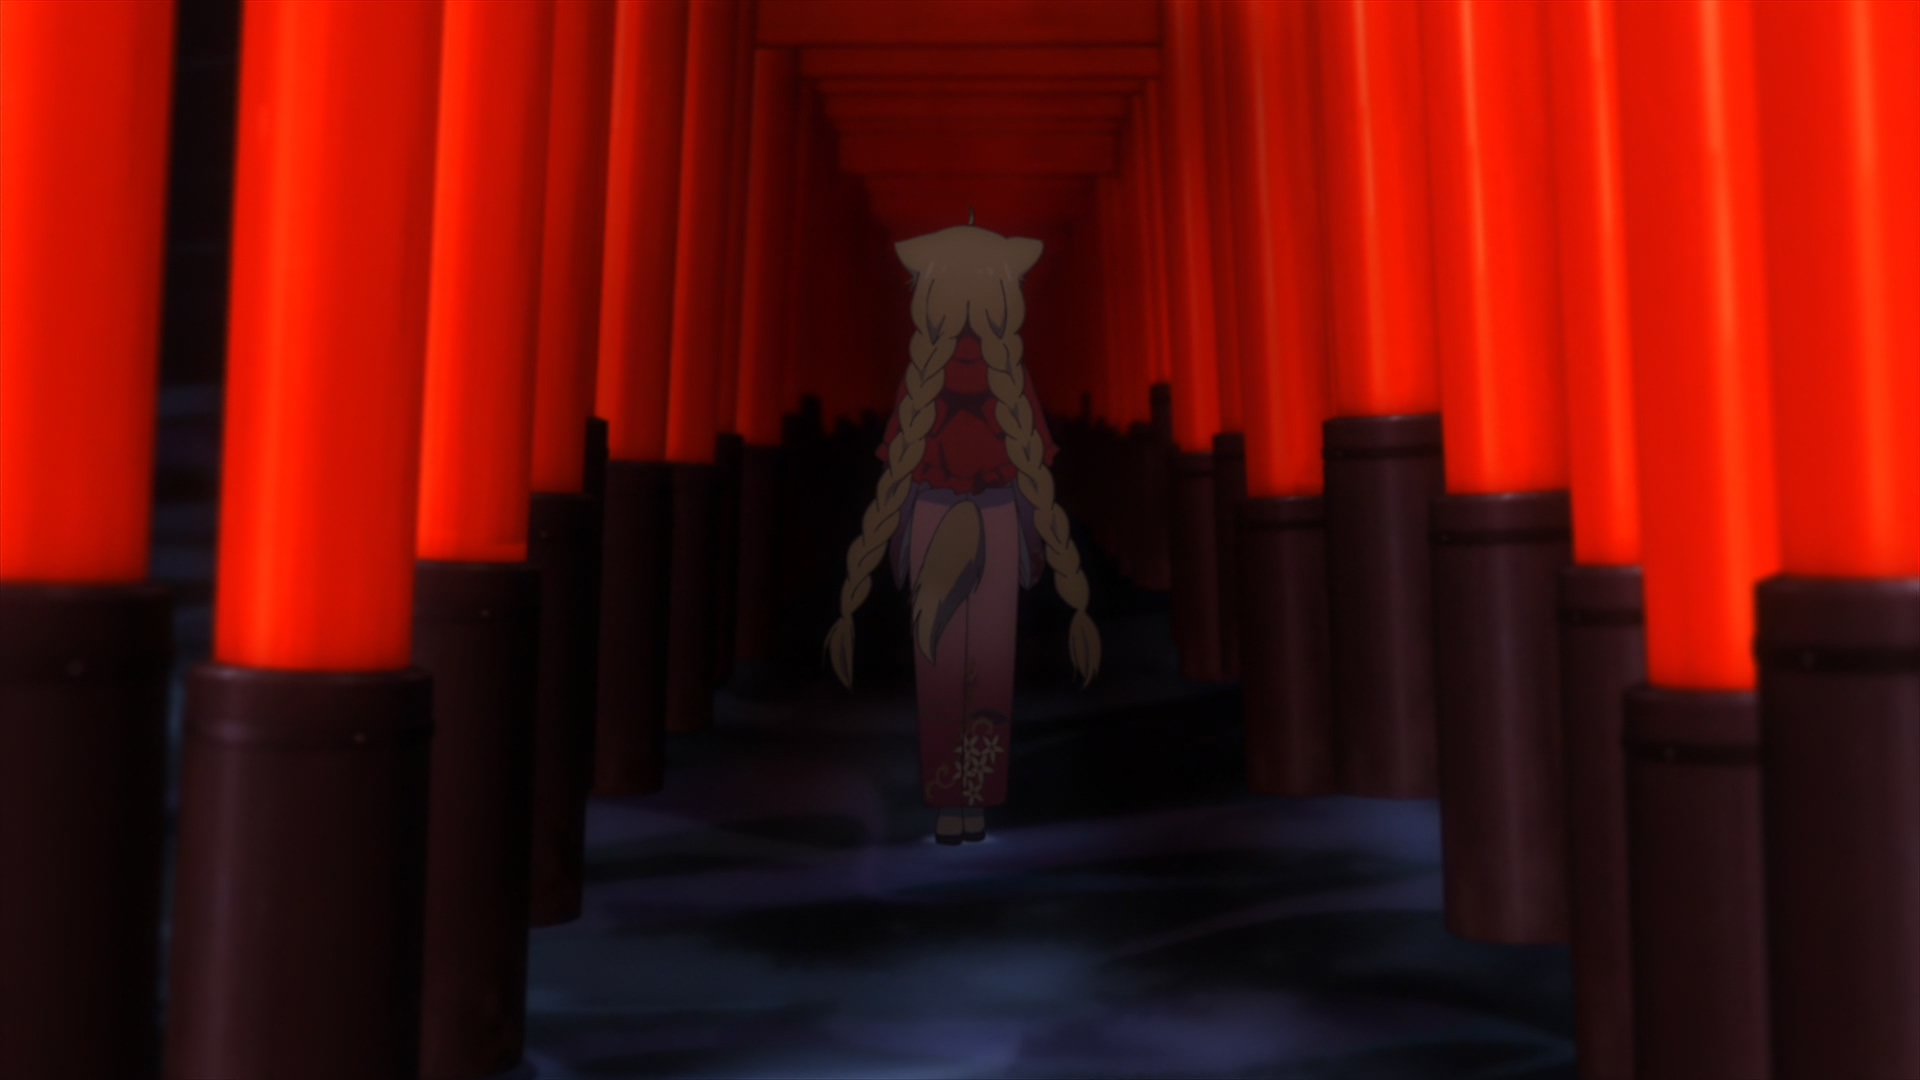柚: (825, 208, 1100, 851)
